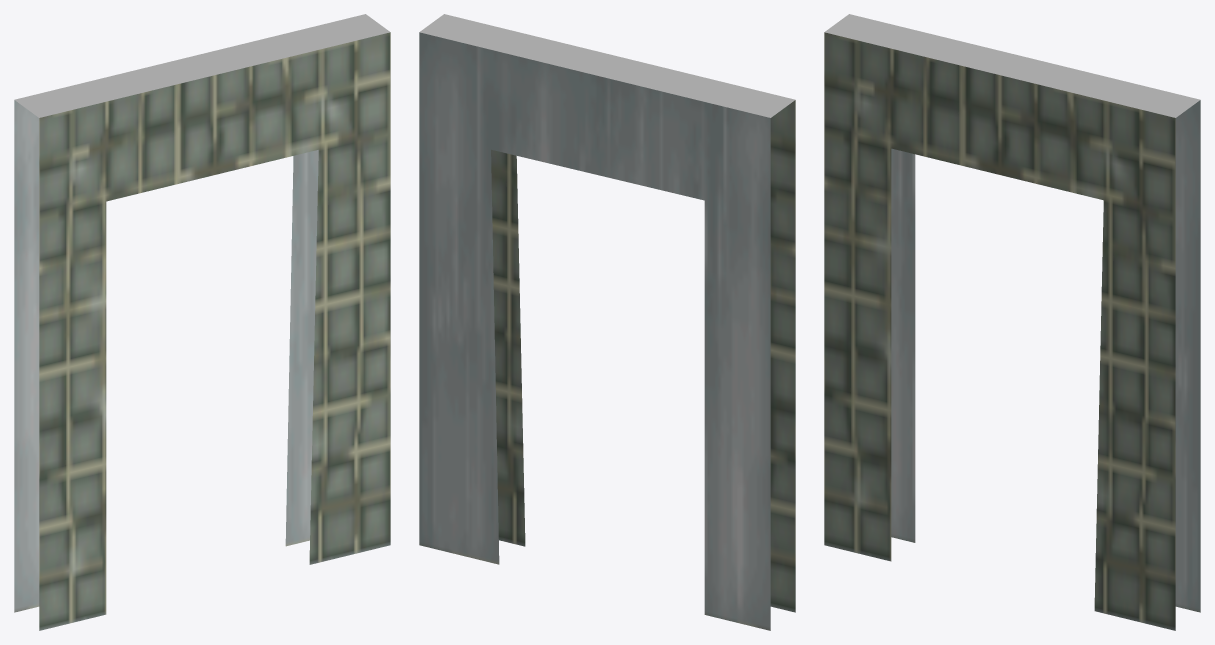
File: W_I3_o [GrüneFliesen-Grau]_1295.glb
3 renders of one model, left to right at view 1: azimuth 30°, elevation 25°; view 2: azimuth 150°, elevation 25°; view 3: azimuth 330°, elevation 25°, orthographic.
Visible parts, largest first — view 1: pPlaneShape2, pPlaneShape3, pPlaneShape1; view 2: pPlaneShape3, pPlaneShape2, pPlaneShape1; view 3: pPlaneShape2, pPlaneShape3, pPlaneShape1.
Boxes of the visible parts, box(x1,y1,x2,y2) form: pPlaneShape2: box(39, 32, 390, 630); pPlaneShape3: box(14, 100, 318, 612); pPlaneShape1: box(14, 14, 390, 117); pPlaneShape3: box(419, 32, 770, 630); pPlaneShape2: box(491, 100, 795, 612); pPlaneShape1: box(419, 14, 795, 117); pPlaneShape2: box(824, 32, 1175, 630); pPlaneShape3: box(891, 100, 1200, 612); pPlaneShape1: box(824, 14, 1200, 117).
Bounding box in the file's own units: 0.25 × 0.3486 × 0.0308.
Materials: 3 (2 with a texture image).
